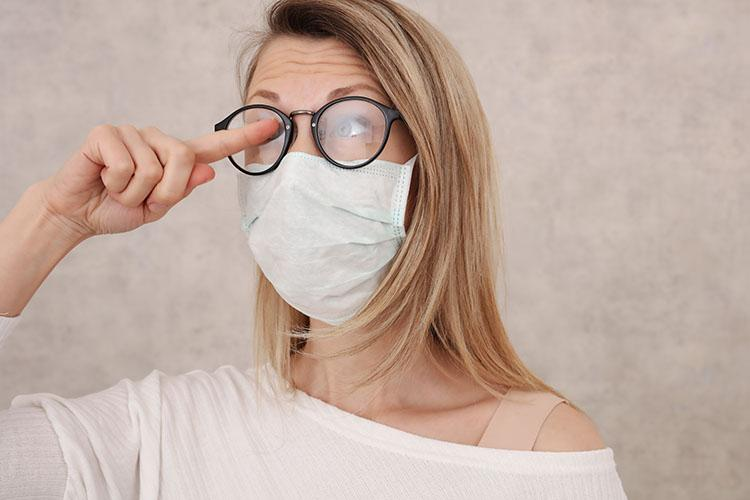mask: (221, 140, 426, 324)
sunglasses: (203, 83, 409, 180)
